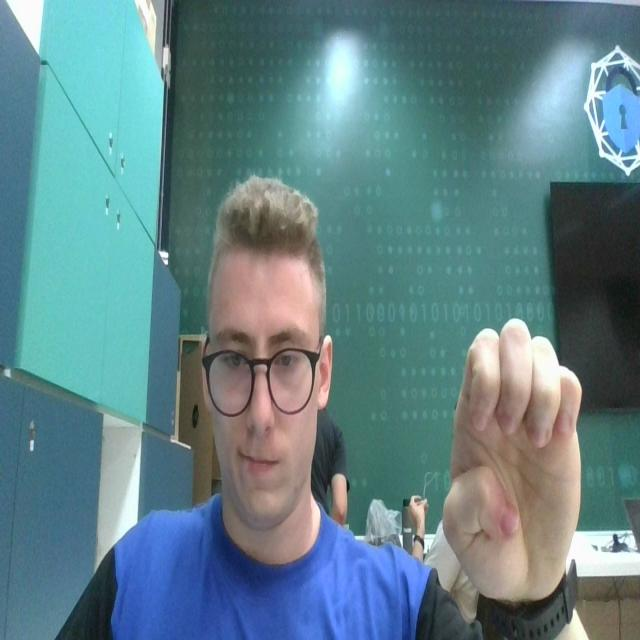E: (441, 313, 585, 599)
